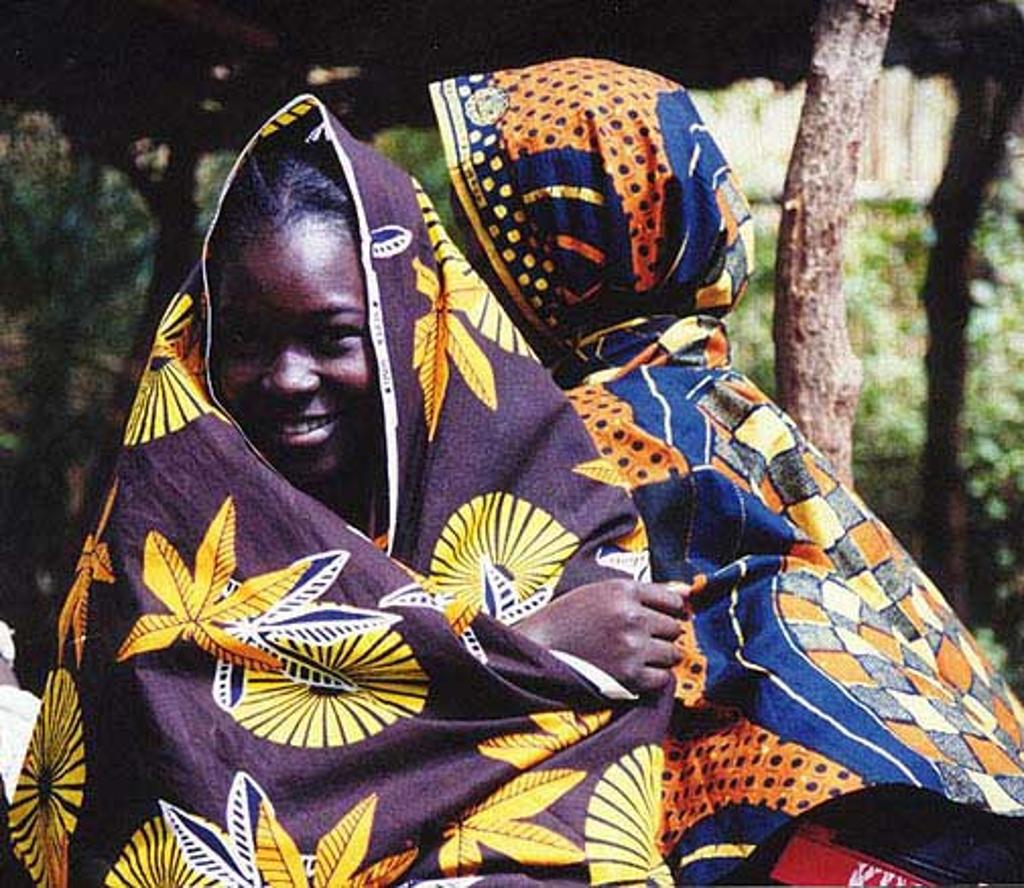face: (216, 212, 402, 478)
